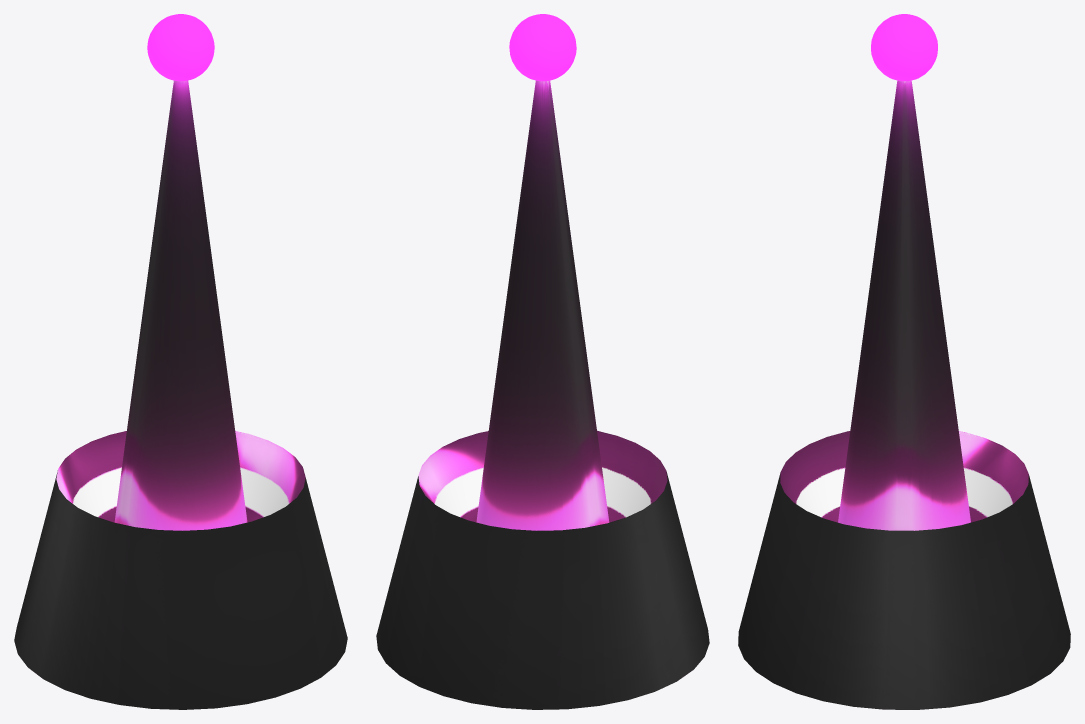
Rendered from turret.glb.
3 views of the same model, side by side, from view 1: azimuth 30°, elevation 25°; view 2: azimuth 150°, elevation 25°; view 3: azimuth 270°, elevation 25° (orthographic).
Parts seen in each view (by area): view 1: Circle; view 2: Circle; view 3: Circle.
Part boxes in pixels (x1=…): Circle: x1=14, y1=14, x2=347, y2=709; Circle: x1=376, y1=14, x2=709, y2=709; Circle: x1=738, y1=14, x2=1070, y2=709.
Bounding box in the file's own units: 1.99 × 4.12 × 1.99.
Materials: 3 (2 with a texture image).
